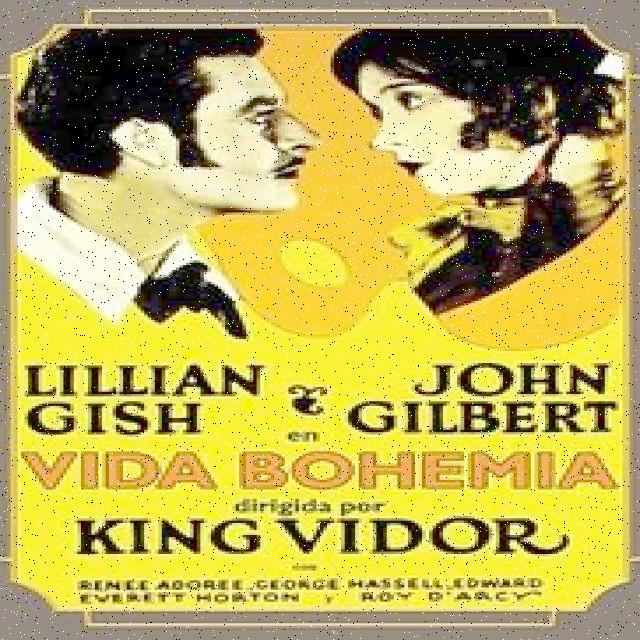movie-judul: (20, 353, 640, 575)
picture: (18, 34, 640, 322)
